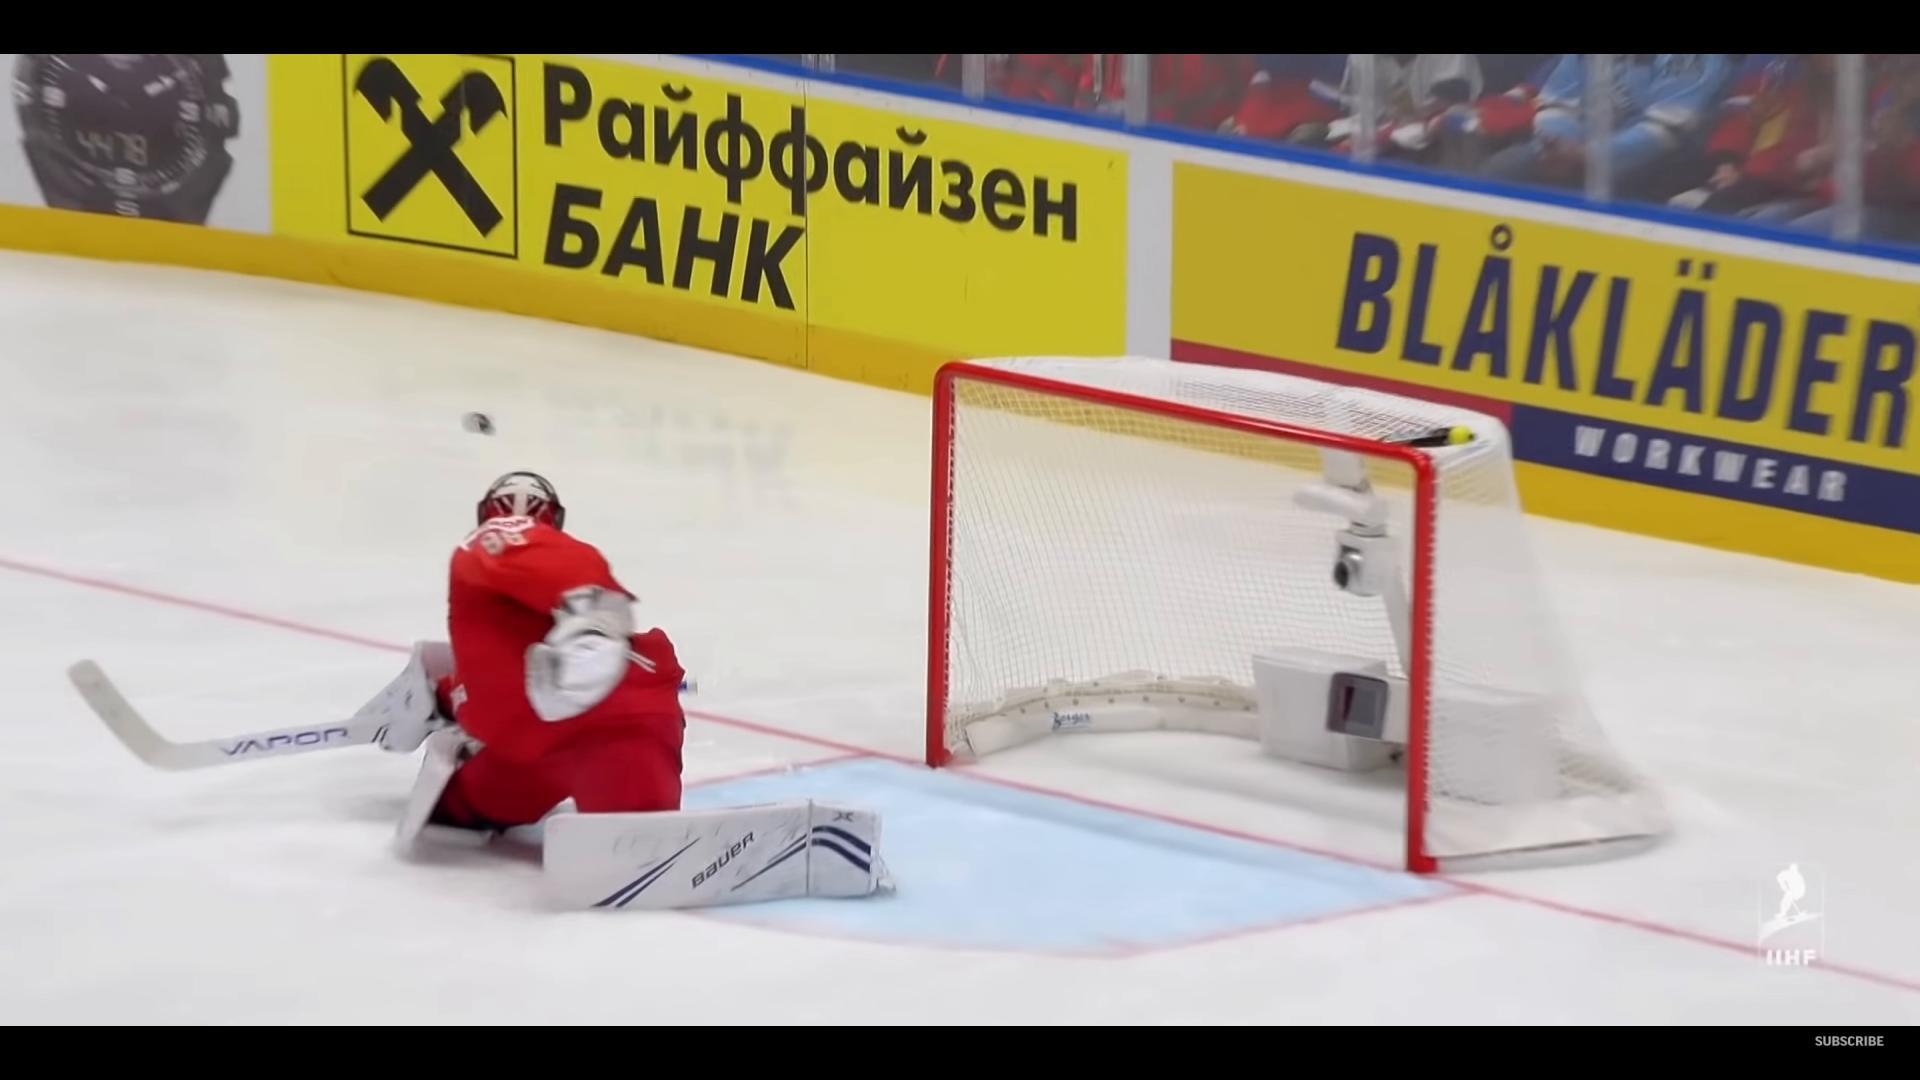puck: (463, 411, 495, 435)
